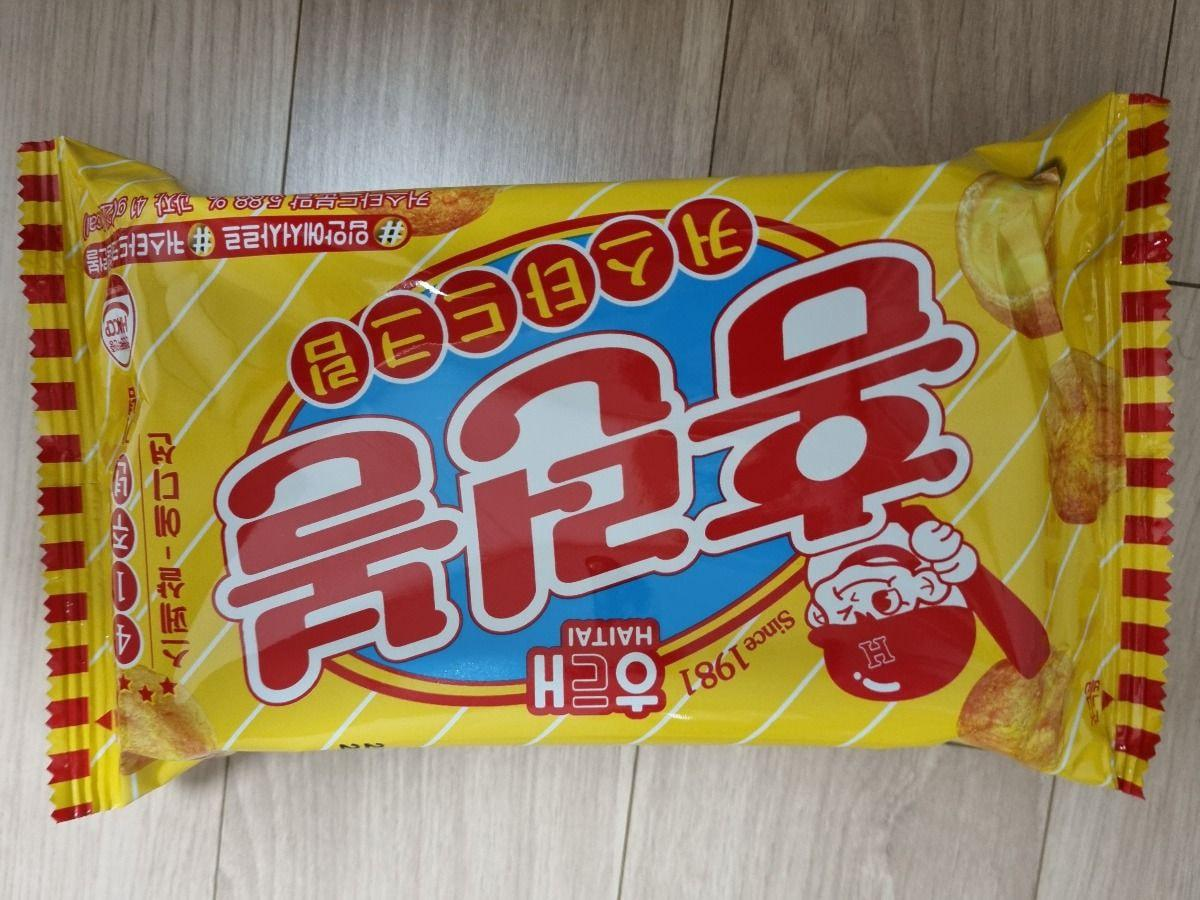snack: (16, 84, 1177, 826)
